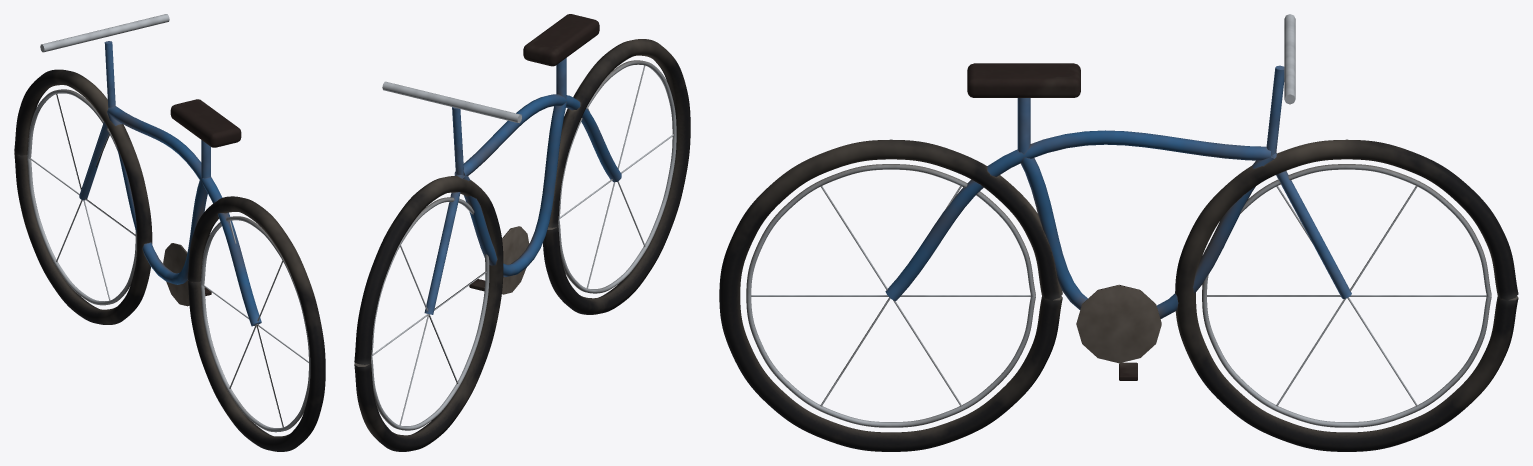
The model's file is ul_rower.glb.
3 views of the same model, side by side, from view 1: azimuth 30°, elevation 25°; view 2: azimuth 150°, elevation 25°; view 3: azimuth 270°, elevation 25° (orthographic). The views are drawn at different scales.
Visible parts, largest first — view 1: Rower; view 2: Rower; view 3: Rower.
Part boxes in pixels (box(x1,y1,x2,y2)): Rower: box(14, 14, 325, 451); Rower: box(354, 14, 690, 451); Rower: box(719, 14, 1518, 451).
Bounding box in the file's own units: 0.4 × 0.924 × 1.68.
Materials: 1 (1 with a texture image).
